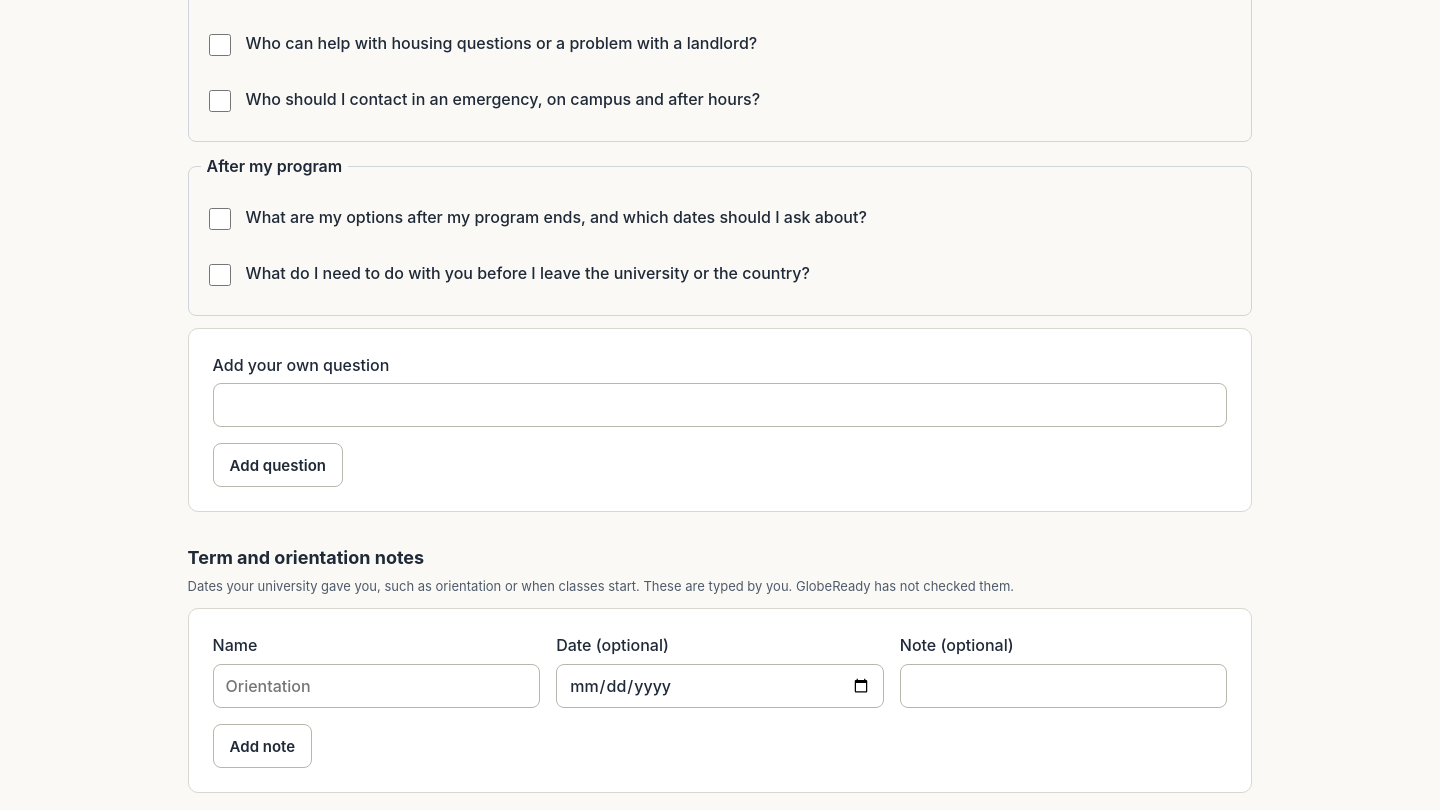
Scenario: AdvisingPrepPage › adds and removes a question of your own
The width and height of the screenshot is (1440, 810).
(page scrolled)
In the field labelled "Add your own question": (720, 405) [213,383,1227,427], type "Can I switch housing?"
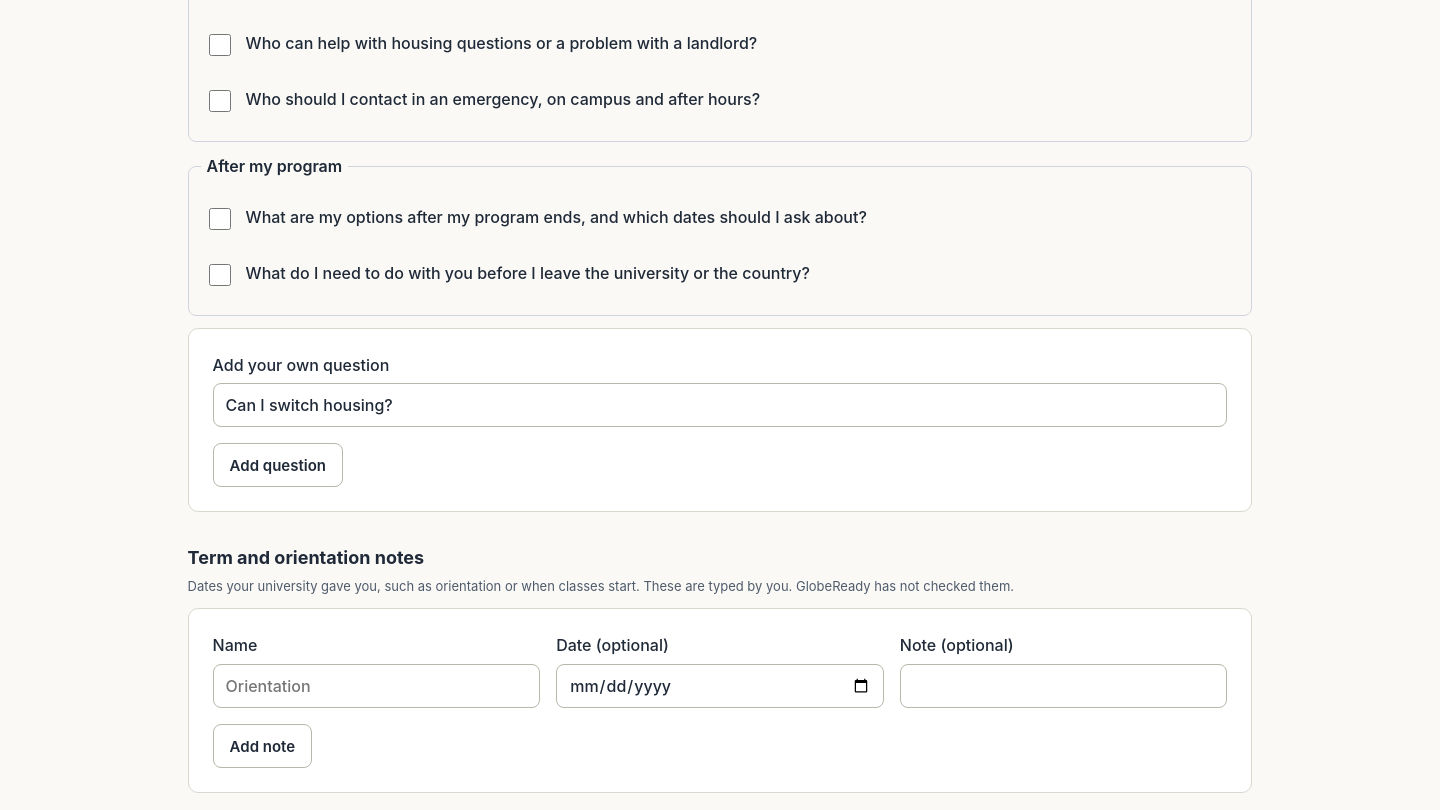
Submit the form "Add your own question", box [188,328,1252,512]
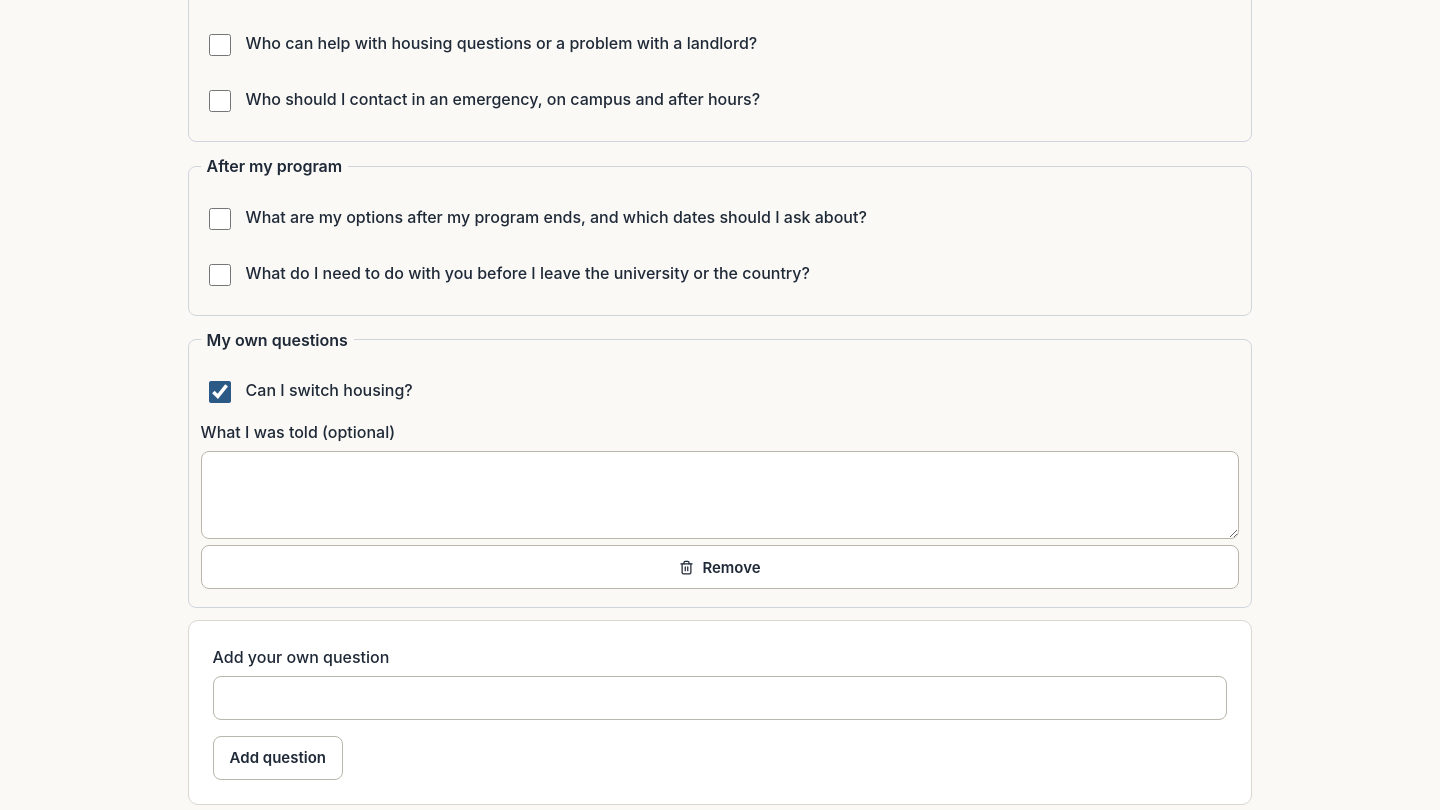
Check: the text "Can I switch housing?" is shown, box [246,378,413,403]
Click the button with aria-label "Remove my question: Can I switch housing?": (720, 567) [201,545,1239,589]
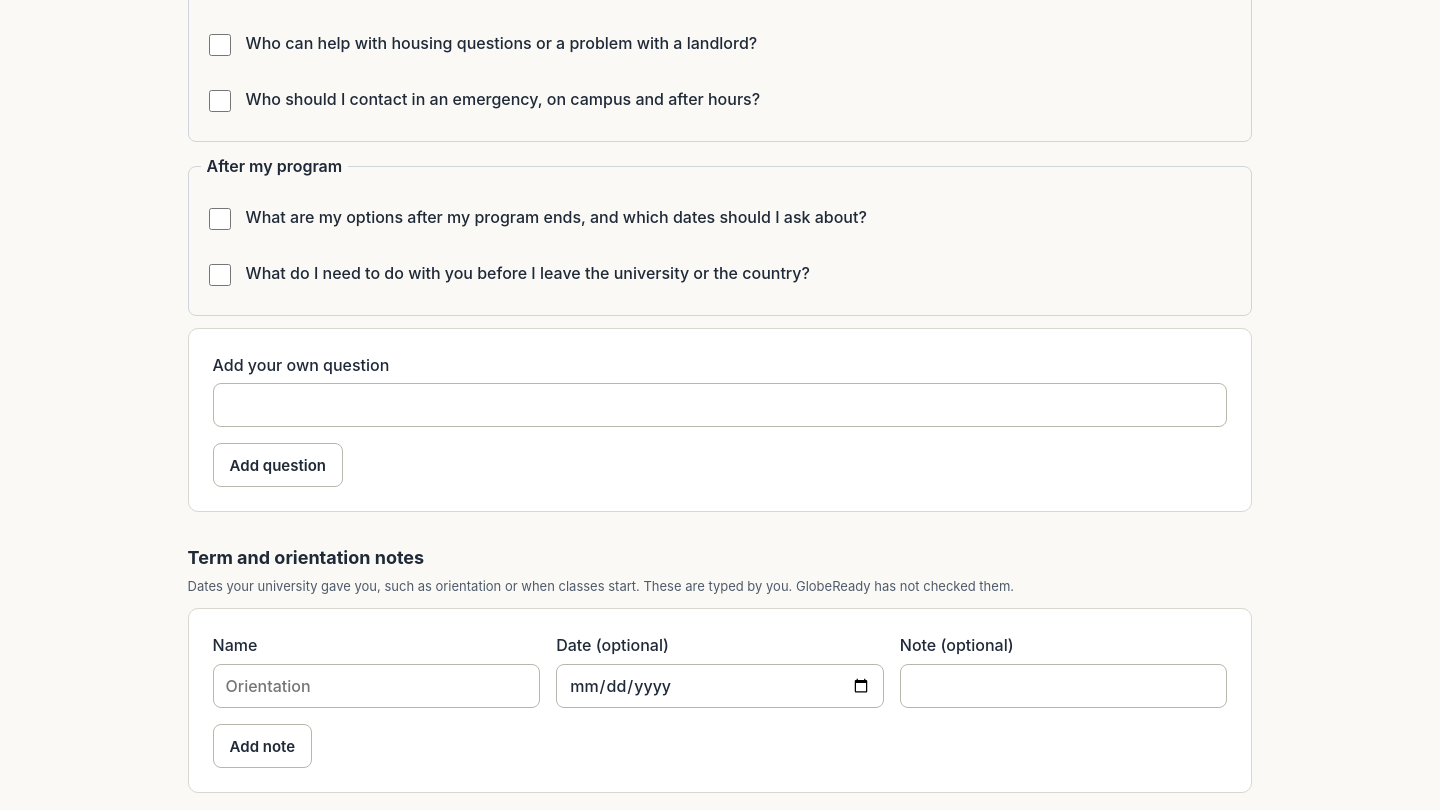
Check: the text "Can I switch housing?" is gone
